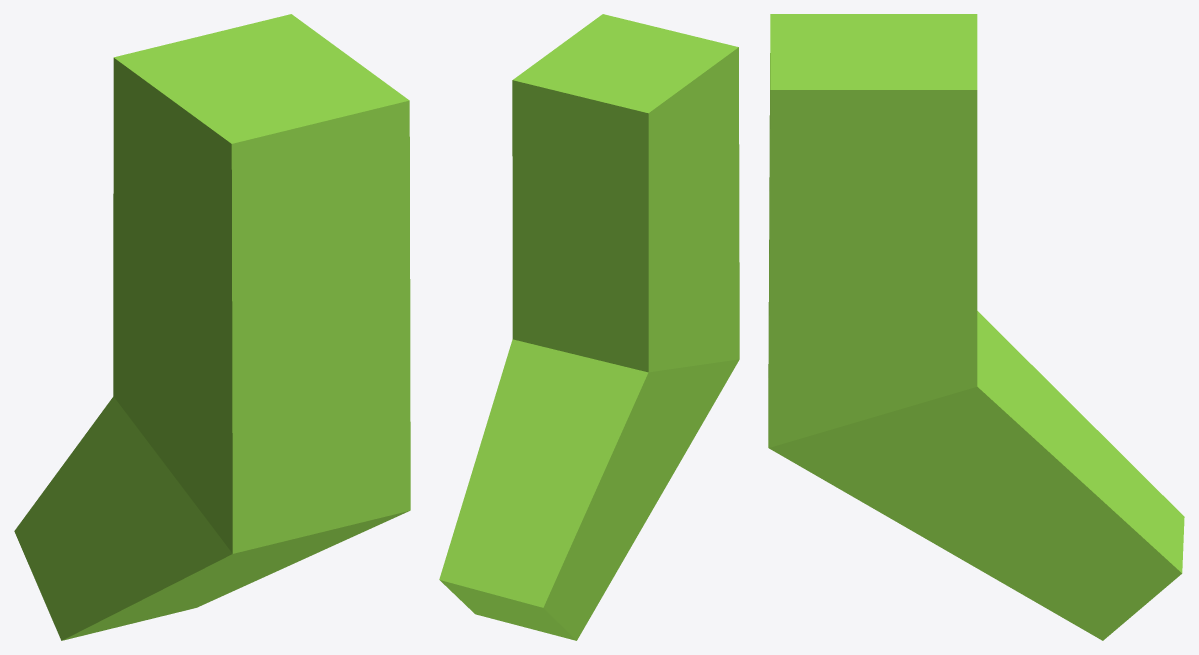
The model's file is Braço.fbx.
The picture shows the model from 3 angles, left to right: view 1: azimuth 30°, elevation 25°; view 2: azimuth 150°, elevation 25°; view 3: azimuth 270°, elevation 25°; orthographic projection. The views are drawn at different scales.
Parts seen in each view (by area): view 1: Braço; view 2: Braço; view 3: Braço.
Part boxes in pixels (x1,y1,x2,y2): Braço: [14, 14, 410, 640]; Braço: [439, 14, 739, 640]; Braço: [768, 14, 1184, 640].
Size of the model in its own units: 55.01 by 190 by 127.
